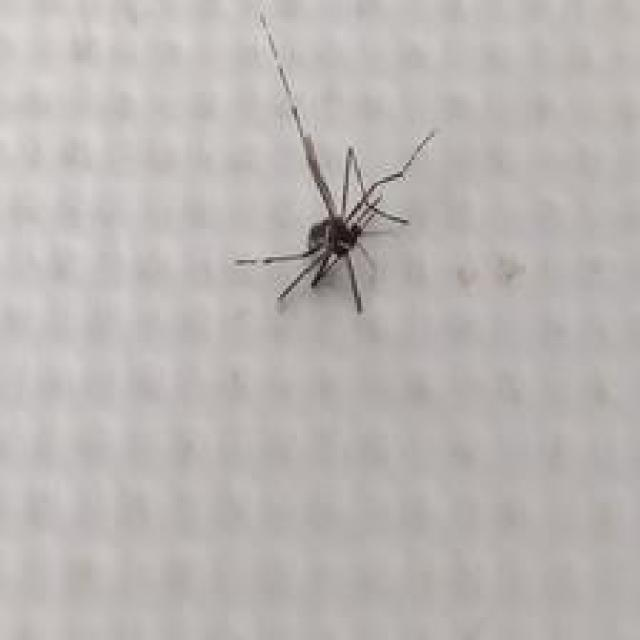Aedes albopictus: (232, 4, 437, 316)
